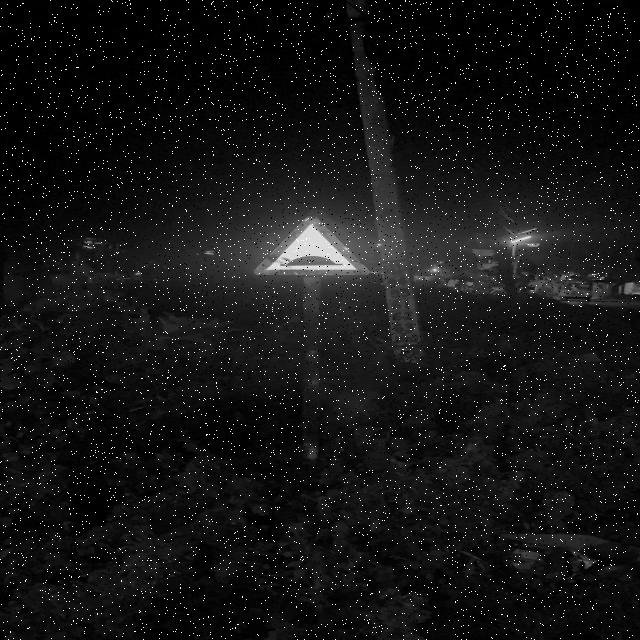Bump: (252, 214, 372, 278)
